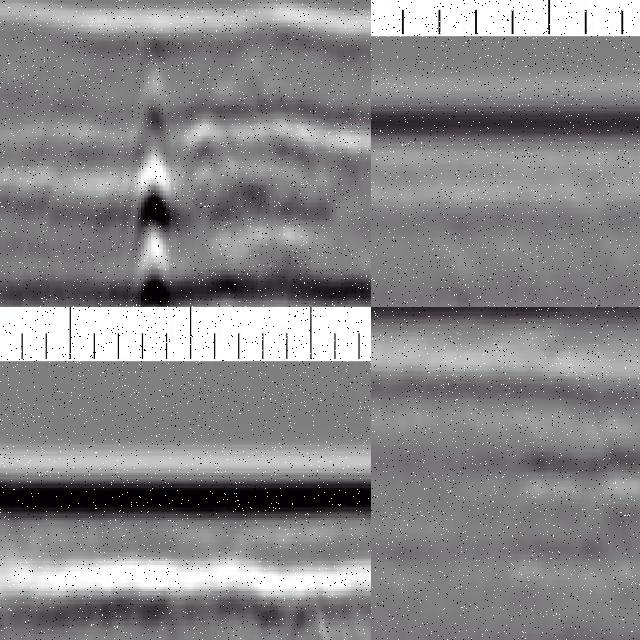crack: (131, 29, 170, 308)
loose: (197, 557, 372, 640), (531, 435, 640, 565)
